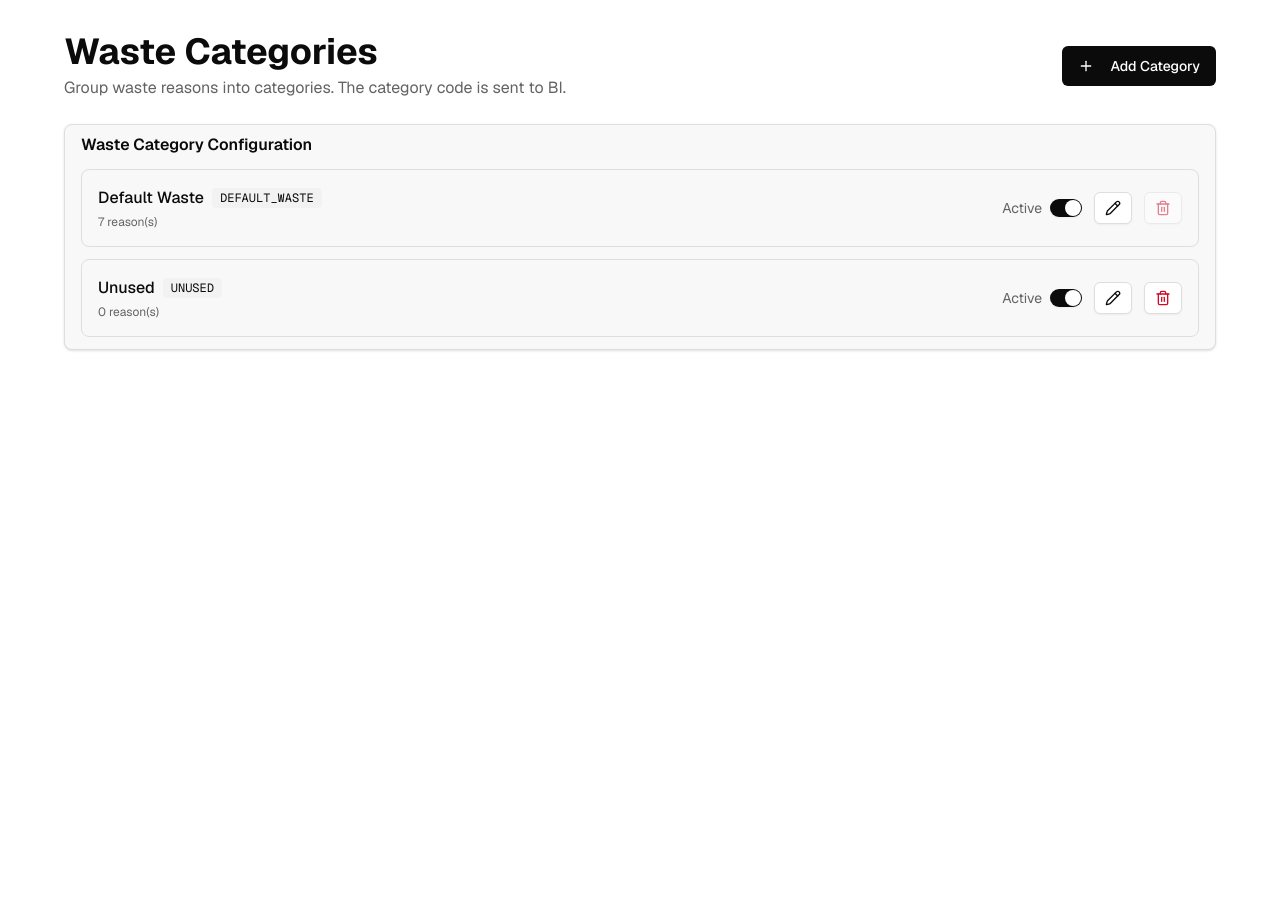
WasteCategoriesAdmin › locks the code of a category that is already used
Click the button named "Edit Default Waste" at (1113, 208), box [1094,192,1132,224]
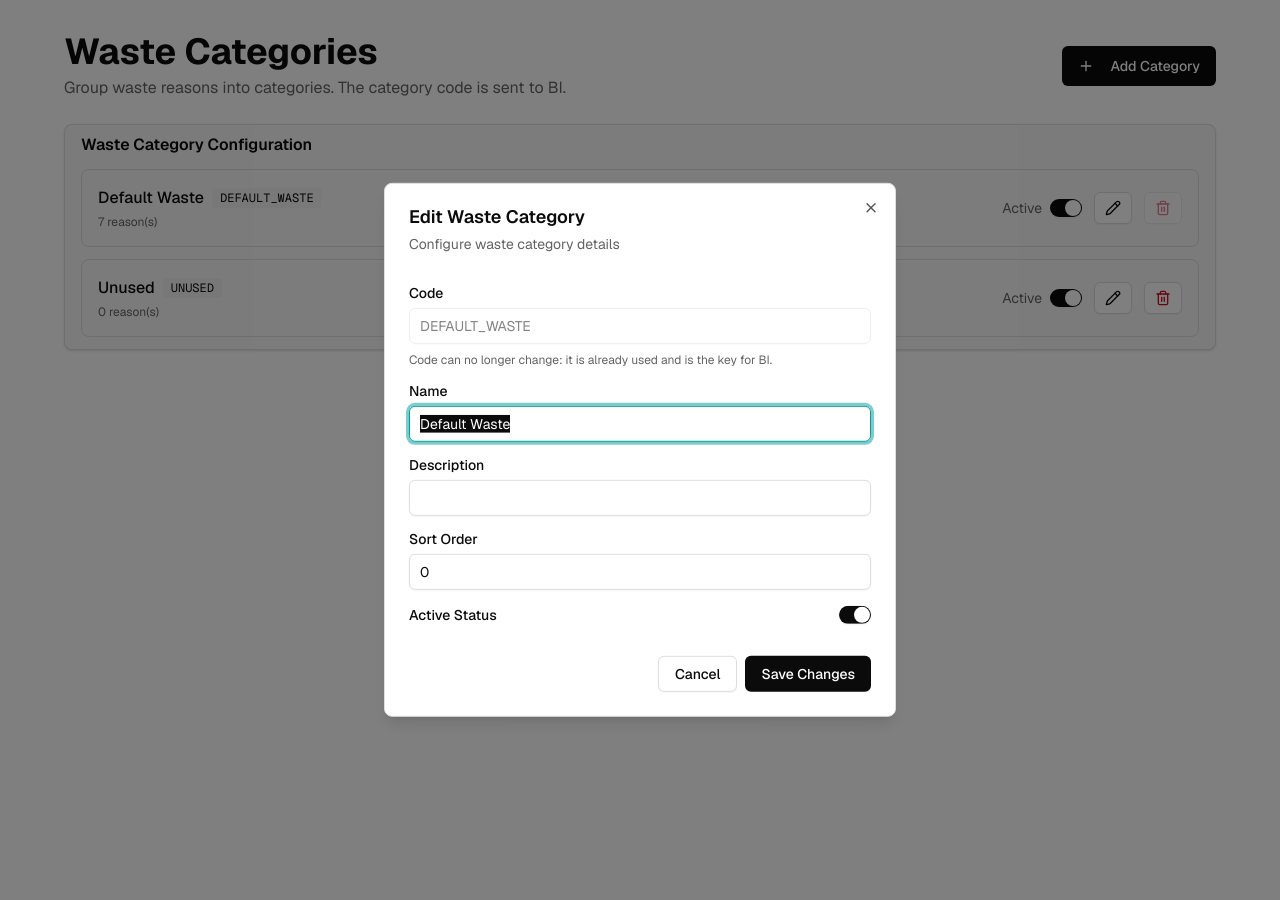
Expected: the field labelled "Code" is disabled, [409,308,871,344]
Click the button "Cancel" at (698, 674), box [658,656,738,692]
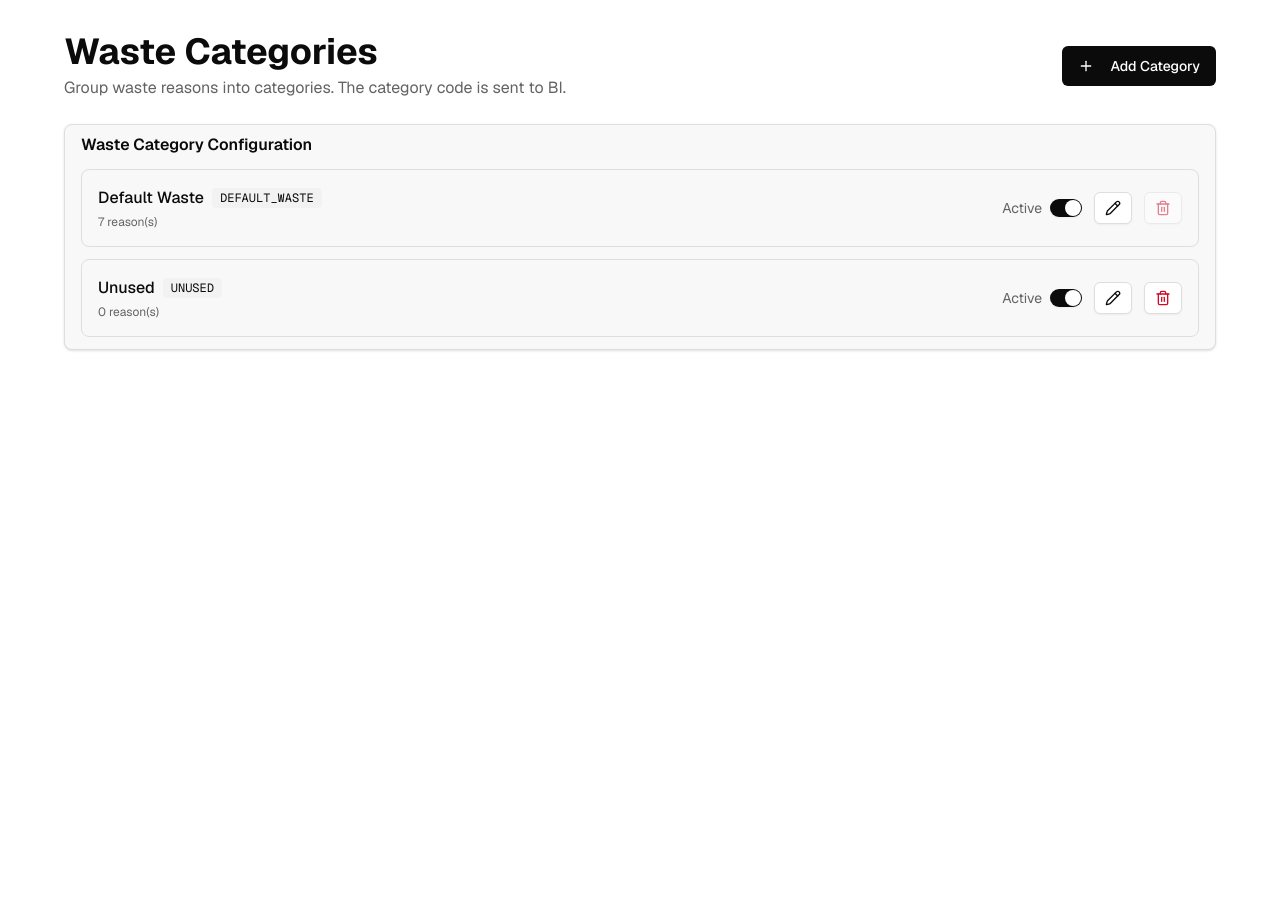
Click the button named "Edit Unused" at (1113, 298), box [1094,282,1132,314]
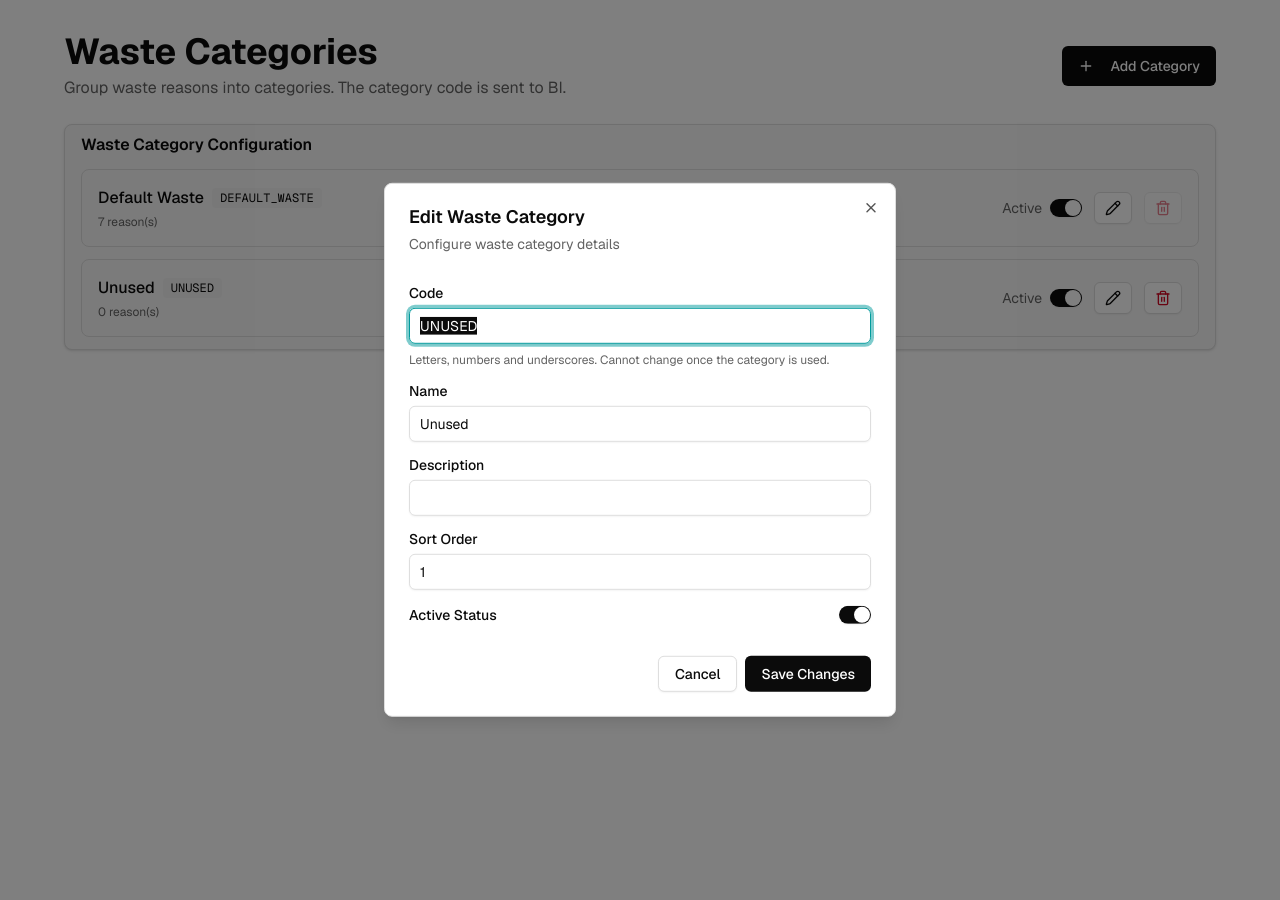
Expected: the field labelled "Code" is enabled, [409,308,871,344]
